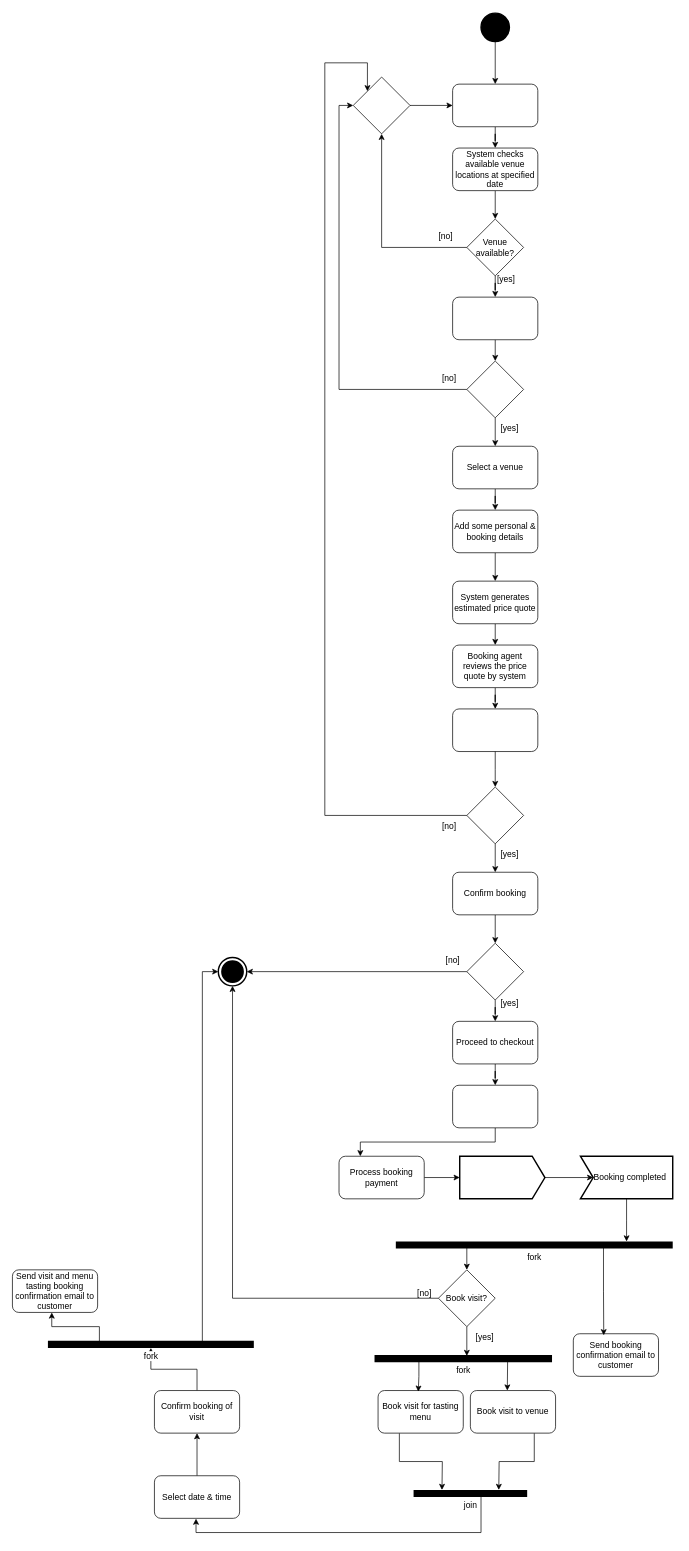
The diagram is 689 pixels wide and 1551 high, and some of its shapes have lost their labels. Here are the shapes that lost their labels. From the top down, the box of each, then its label:
(452, 83, 538, 127): Enter date & time of your event
(452, 296, 538, 340): System suggests available venues
(466, 360, 524, 418): Happy with available venues?
(452, 708, 538, 752): System displays final quote of price
(466, 786, 524, 844): happy?
(466, 943, 524, 1000): Pay now?
(452, 1085, 538, 1128): Enter bank details
(459, 1155, 545, 1199): Payment confirmed
